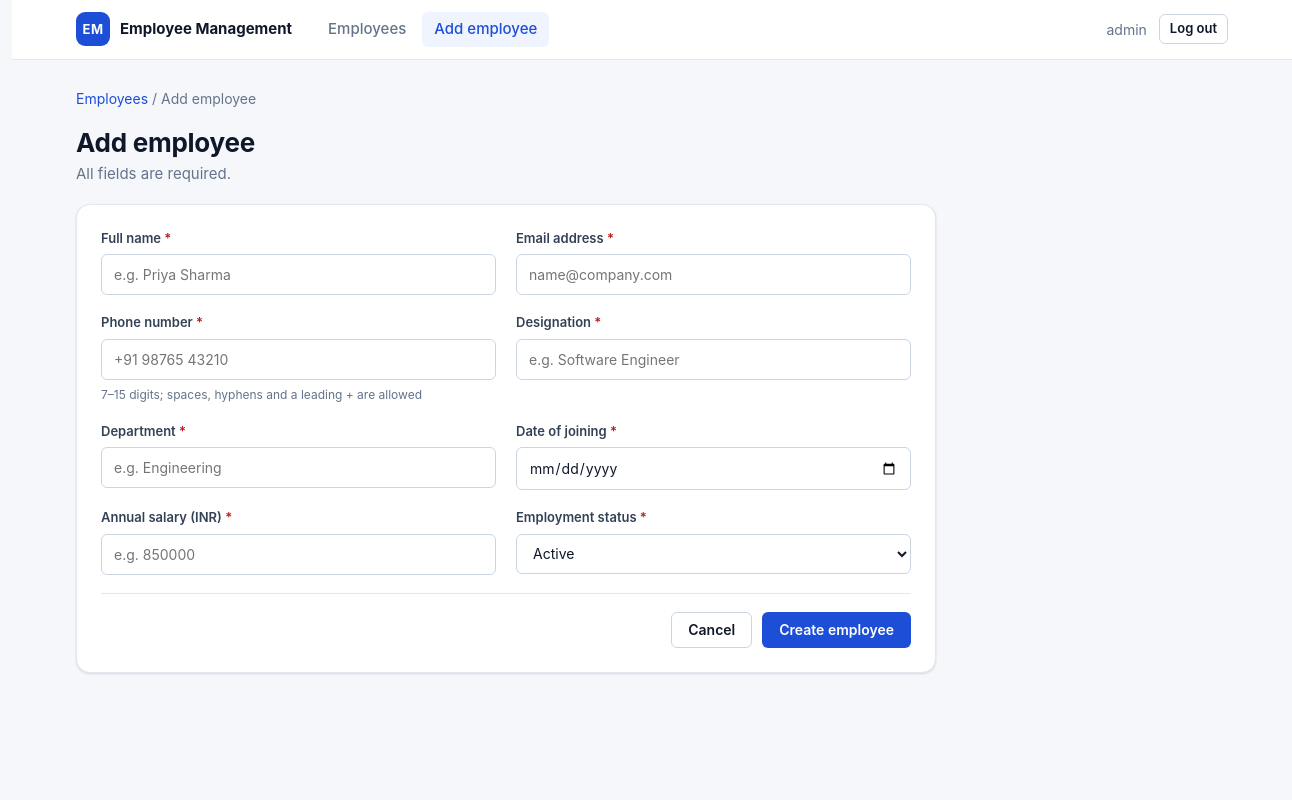
Add employee page › shows the server duplicate-email error beside the email field
This screenshot has width=1292, height=800.
Expected: the heading "Add employee" is shown, [76, 126, 255, 159]
Type "Neha Gupta" into the field labelled "Full name *". click: (298, 274)
box: [101, 254, 496, 295]
Type "neha.gupta@example.com" into the field labelled "Email address *". click: (714, 274)
box: [516, 254, 911, 295]
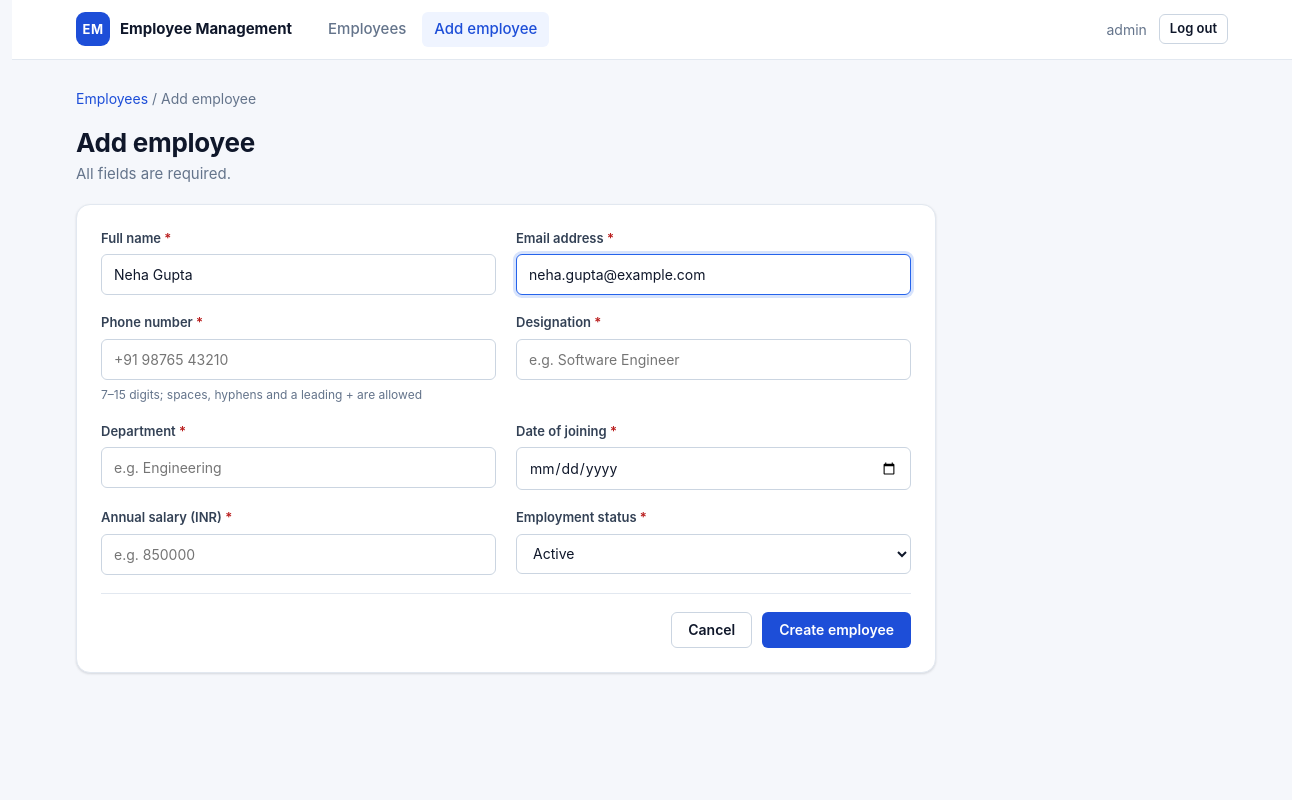
Type "9876501234" into the field labelled "Phone number *". click: (298, 359)
box: [101, 338, 496, 380]
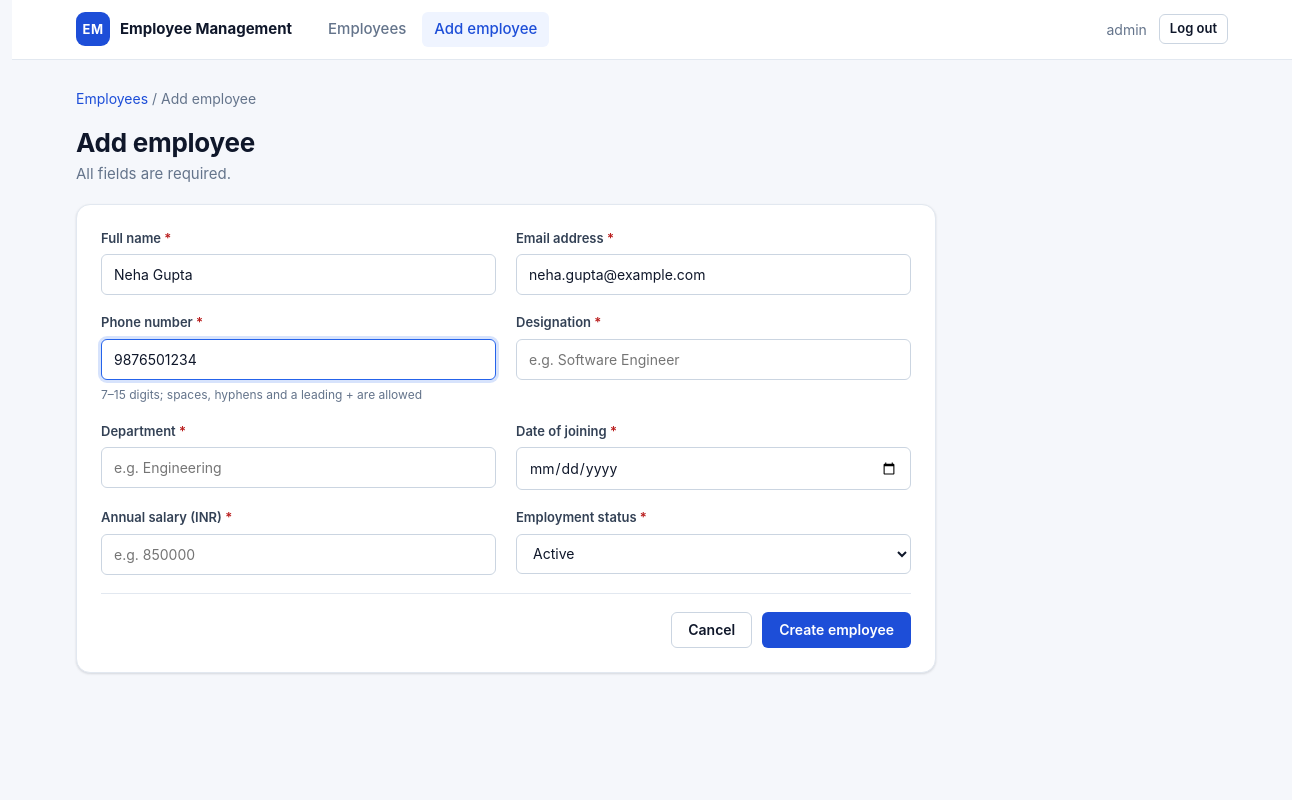
Type "Data Analyst" into the field labelled "Designation *". click: (714, 359)
box: [516, 338, 911, 380]
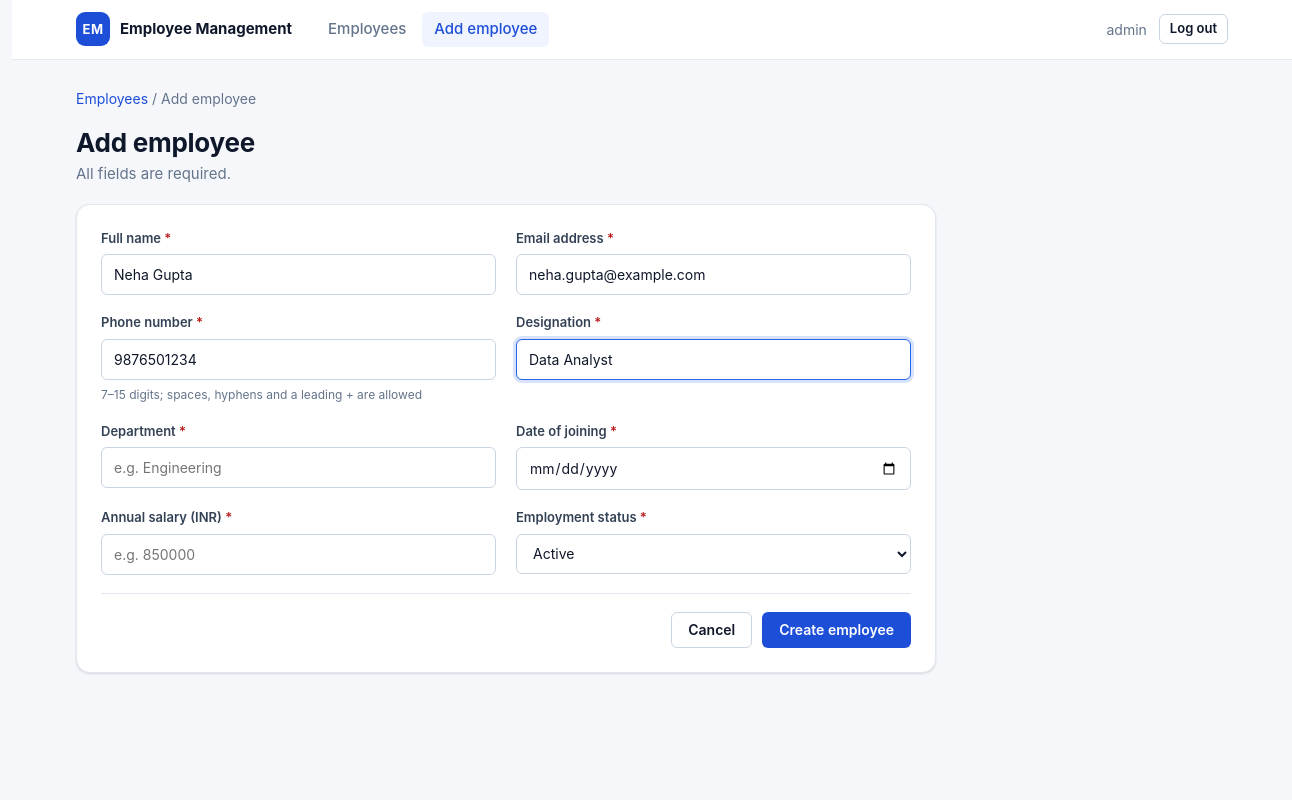
Type "Finance" into the field labelled "Department *". click: (298, 468)
box: [101, 447, 496, 488]
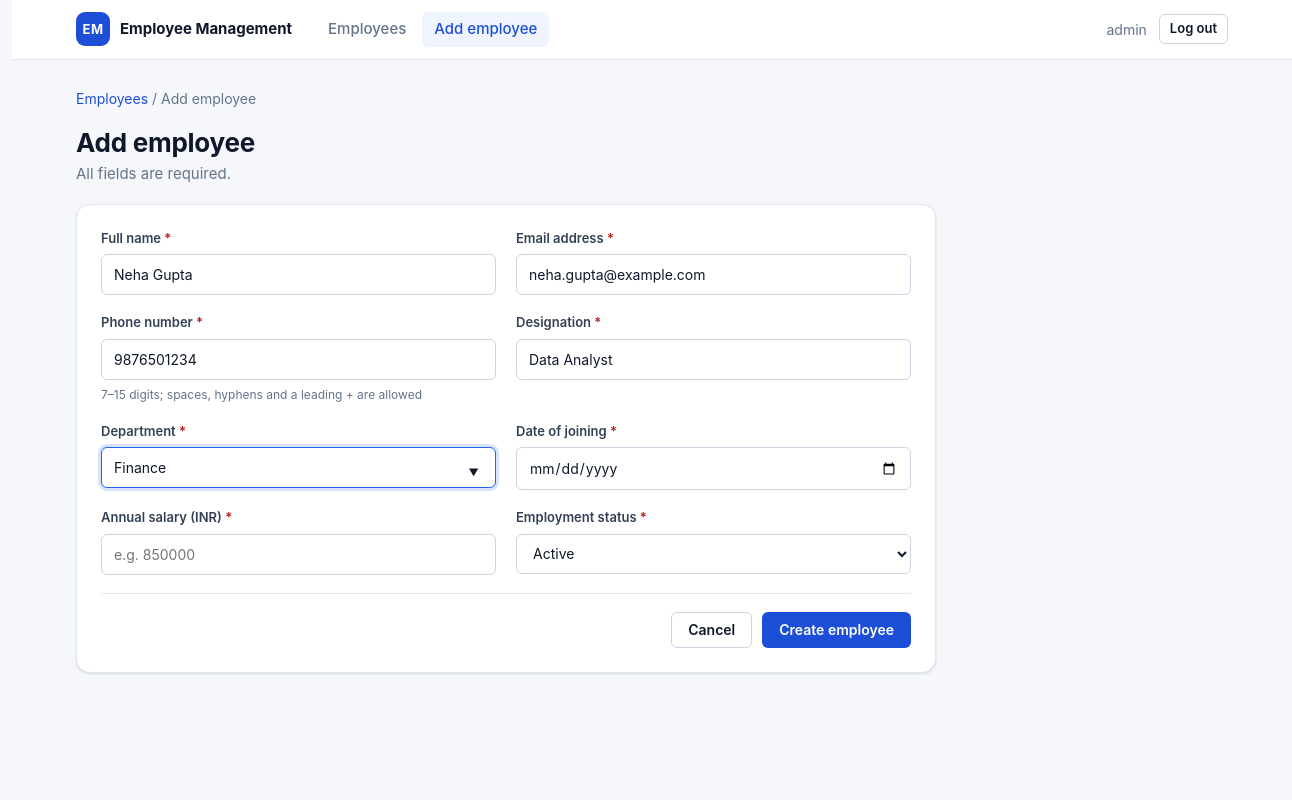
Type "2025-03-10" into the date field labelled "Date of joining *". click: (714, 468)
box: [516, 447, 911, 490]
Type "720000" into the number field labelled "Annual salary (INR) *". click: (298, 554)
box: [101, 534, 496, 574]
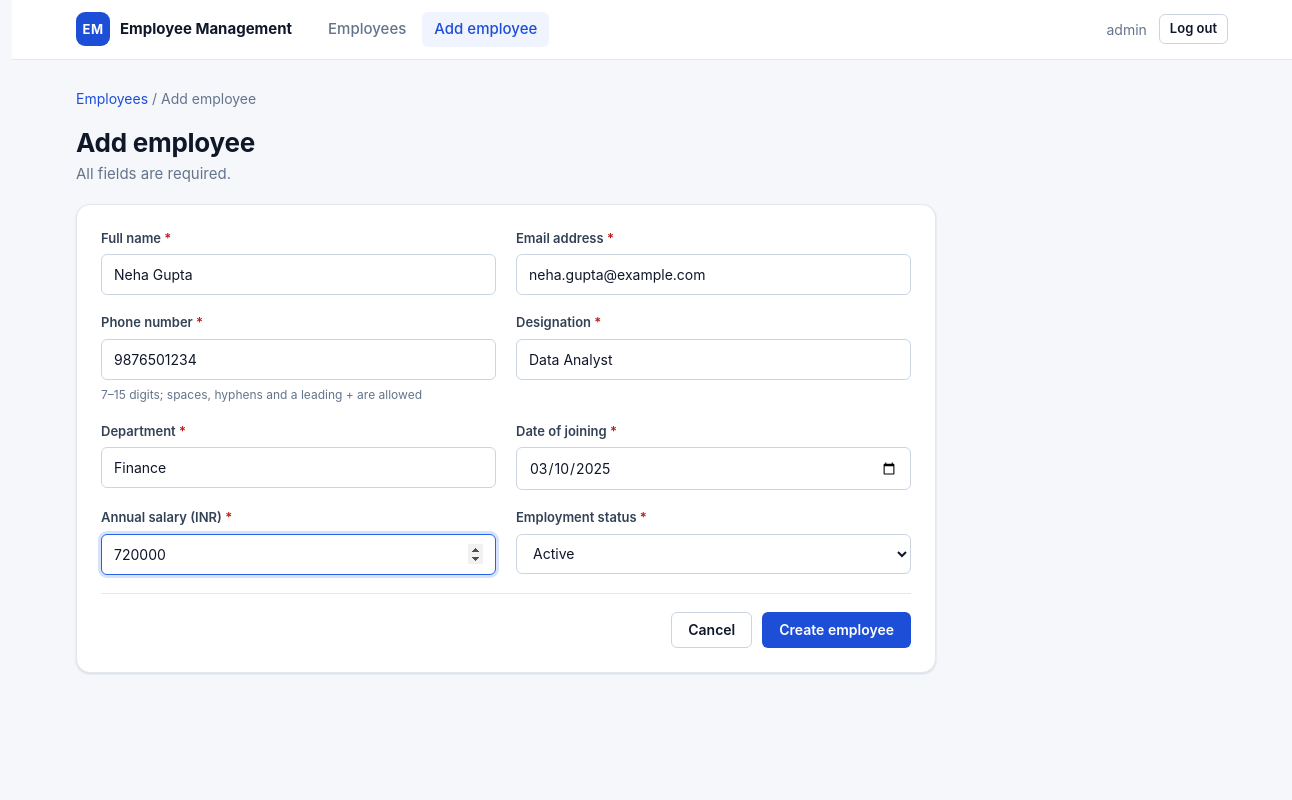
Click the button "Create employee". click: click(837, 630)
box: [762, 612, 911, 648]
(page scrolled)
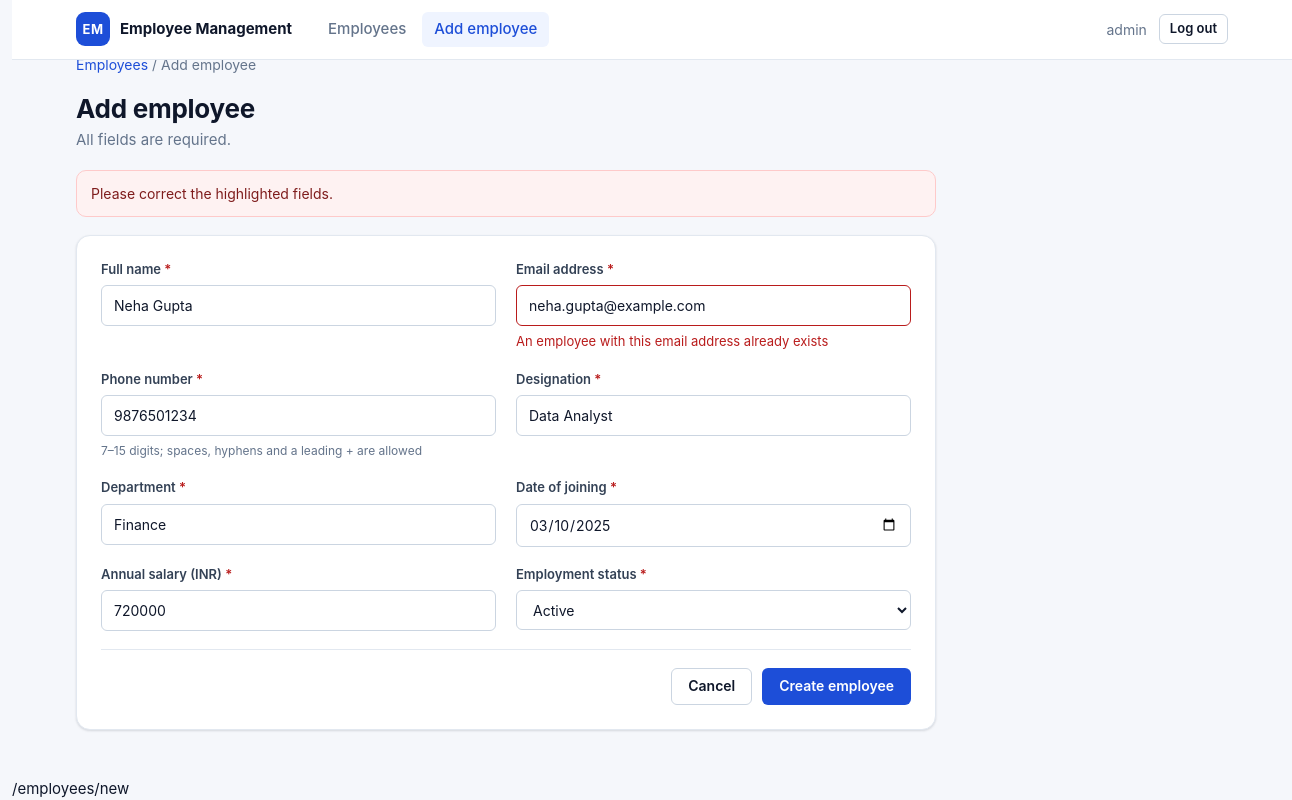
Expected: the text with test id "current-location" reads "/employees/new", [12, 779, 129, 798]
Expected: the text "Please correct the highlighted fields." is shown, [91, 184, 333, 202]
Expected: the text "An employee with this email address already exists" is shown, [516, 333, 828, 349]
